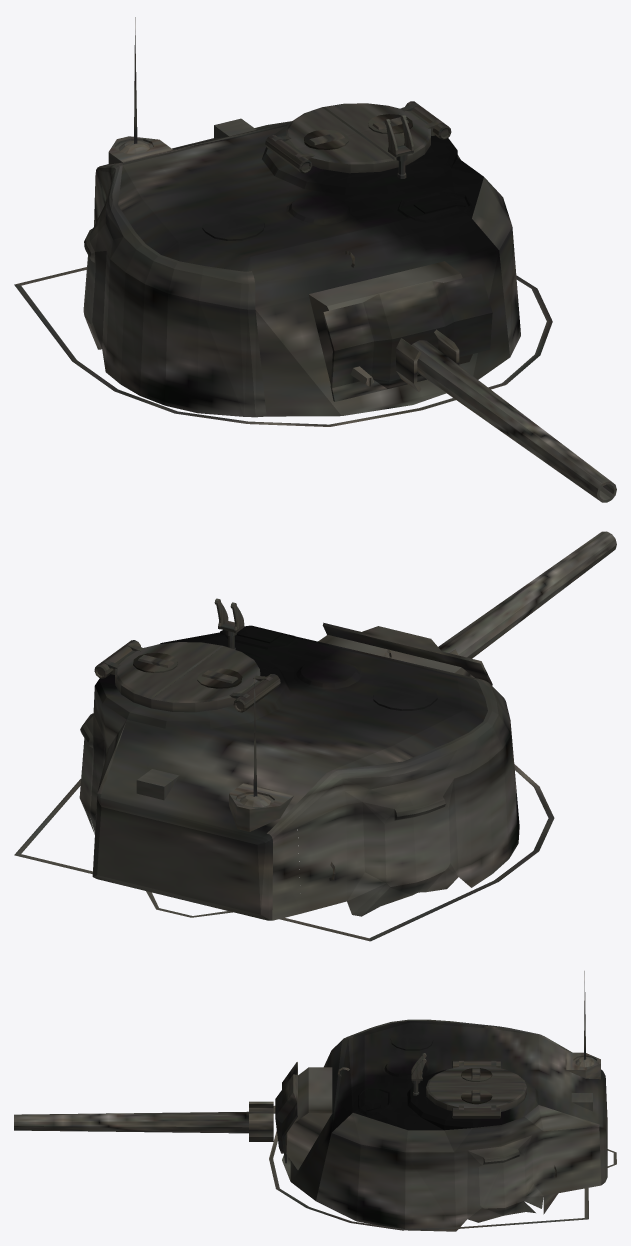
The model's file is sherman_turret_m2.obj.
The picture shows the model from 3 angles, top to bottom: view 1: azimuth 30°, elevation 25°; view 2: azimuth 150°, elevation 25°; view 3: azimuth 270°, elevation 25°; orthographic projection. The views are drawn at different scales.
Visible parts, largest first — view 1: sherman_turret_m2; view 2: sherman_turret_m2; view 3: sherman_turret_m2.
Boxes of the visible parts, x1,y1,x2,y2 form: sherman_turret_m2: (14, 17, 616, 502); sherman_turret_m2: (14, 531, 616, 941); sherman_turret_m2: (14, 971, 616, 1231).
Bounding box in the file's own units: 2.35 × 1.4 × 4.18.
1 material, 1 textured.
